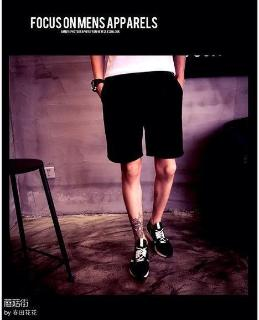short sleeve top: (104, 56, 176, 79)
shorts: (100, 69, 184, 163)
